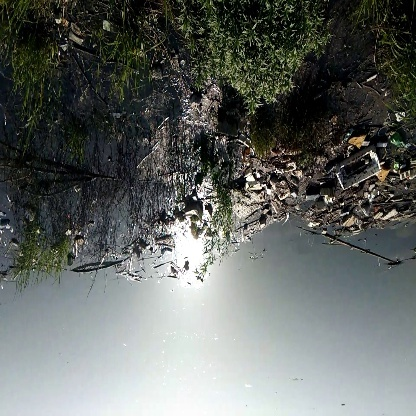branch: (325, 230, 407, 271)
